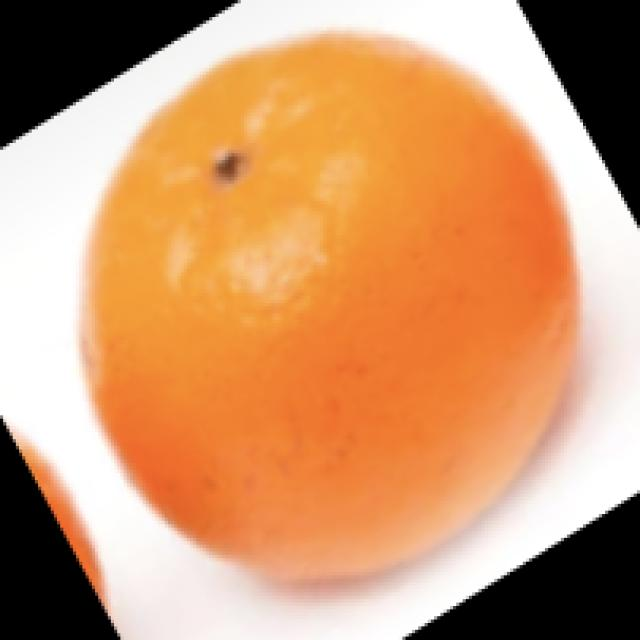matang: (78, 24, 570, 576)
